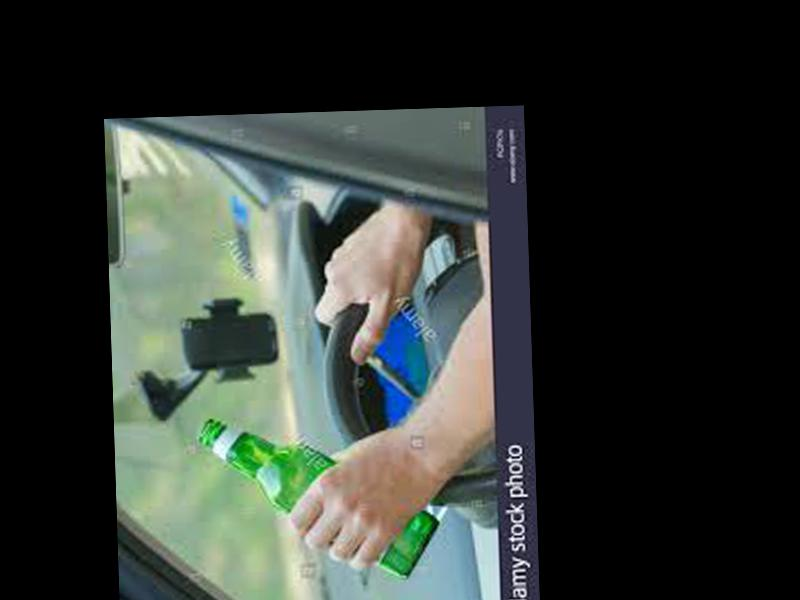Beer: (201, 413, 443, 579)
